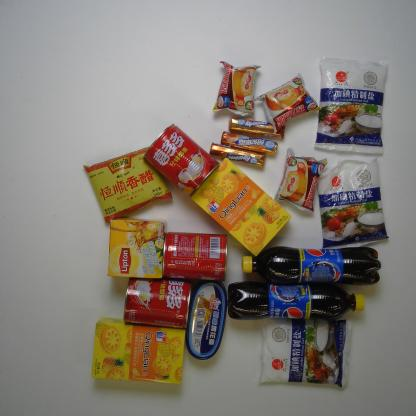Candy: (220, 130, 278, 156), (209, 142, 266, 168), (228, 116, 286, 140)
Canned Food: (142, 123, 220, 197), (122, 276, 192, 330), (185, 278, 229, 362), (161, 231, 229, 282)
Dessert: (190, 156, 292, 258), (90, 316, 186, 385), (251, 72, 321, 134), (272, 146, 328, 214), (212, 60, 262, 118)
Drink: (226, 279, 366, 321), (240, 245, 383, 286)
Instant Drink: (105, 217, 167, 280)
Seasoner: (313, 56, 390, 156), (81, 146, 174, 223), (315, 155, 390, 250), (256, 318, 353, 390)
